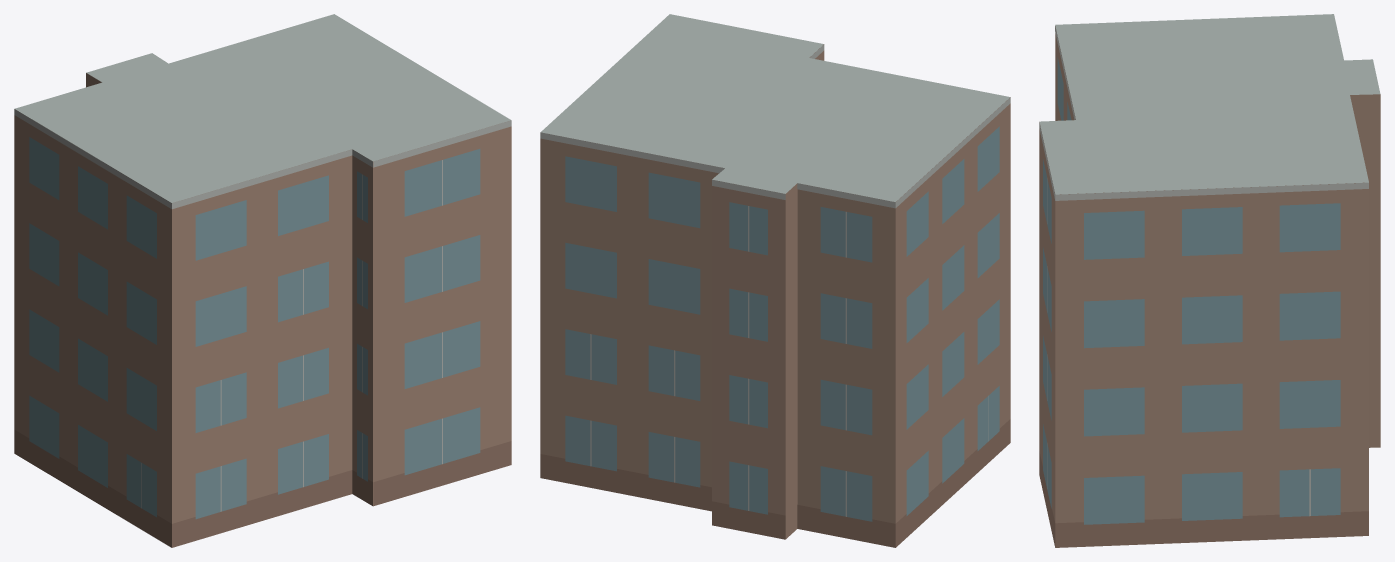
The model's file is survey-upis-32990938.glb.
3 renders of one model, left to right at view 1: azimuth 30°, elevation 25°; view 2: azimuth 150°, elevation 25°; view 3: azimuth 270°, elevation 25°, orthographic. The views are drawn at different scales.
Visible parts, largest first — view 1: survey-upis-32990938.tmp; view 2: survey-upis-32990938.tmp; view 3: survey-upis-32990938.tmp.
Part boxes in pixels (bbox=[...]): survey-upis-32990938.tmp: bbox=[14, 14, 511, 547]; survey-upis-32990938.tmp: bbox=[540, 14, 1010, 547]; survey-upis-32990938.tmp: bbox=[1039, 14, 1380, 547].
Bounding box in the file's own units: 14.89 × 13.57 × 11.89.
